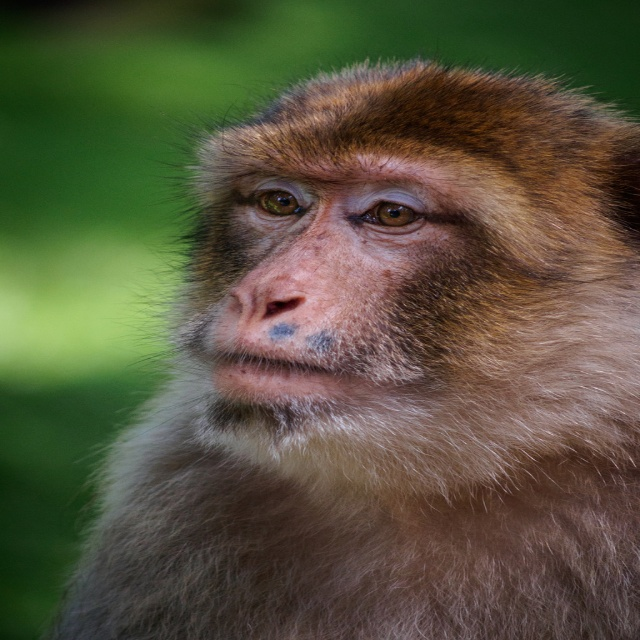Monkey: (57, 55, 640, 640)
